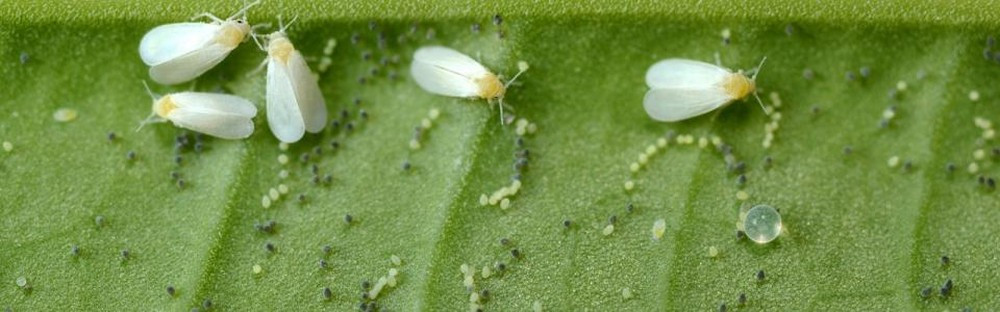Mosca Blanca: (387, 33, 543, 131), (252, 17, 356, 161), (628, 37, 783, 133), (133, 3, 264, 91), (128, 76, 275, 154)
